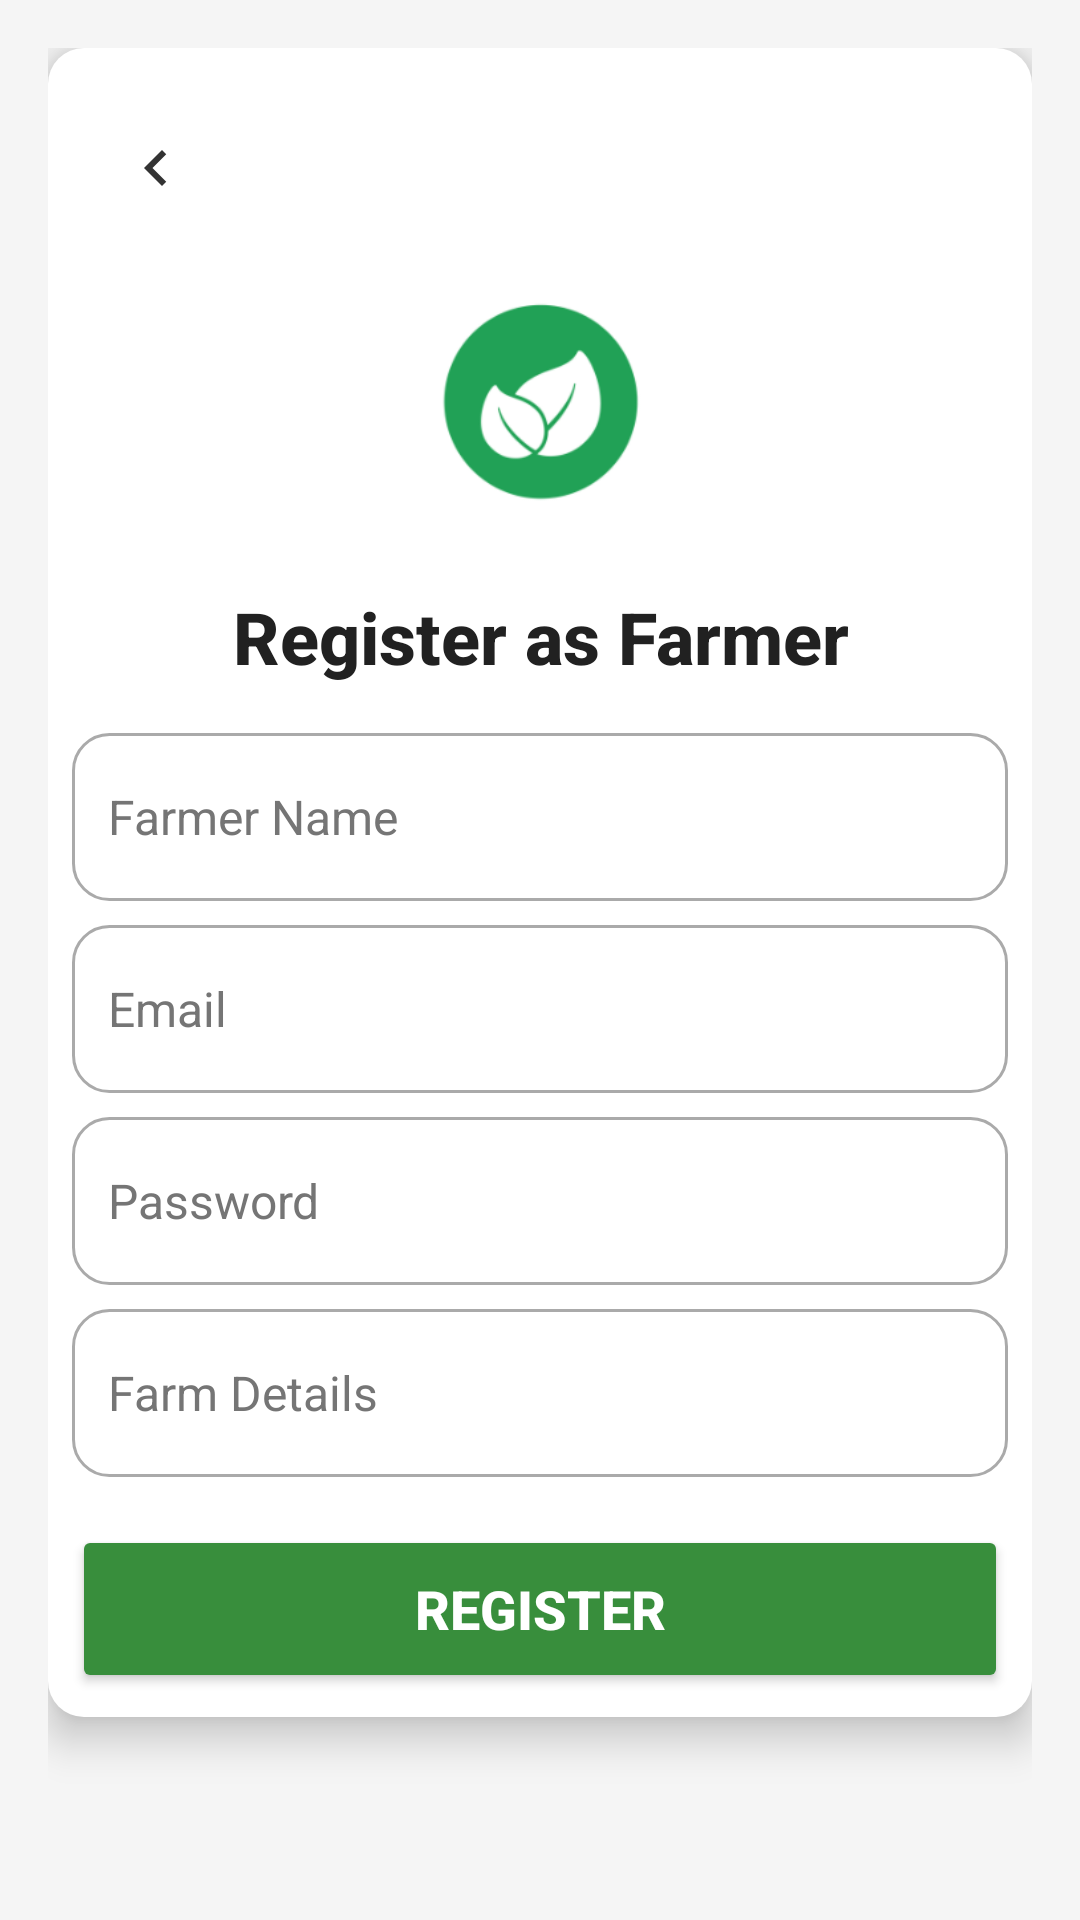

Named icons in this screenshot (1080x1920) and their bounding boxes, region(x1, y1, x2, y2):
Back: region(144, 150, 166, 186)
